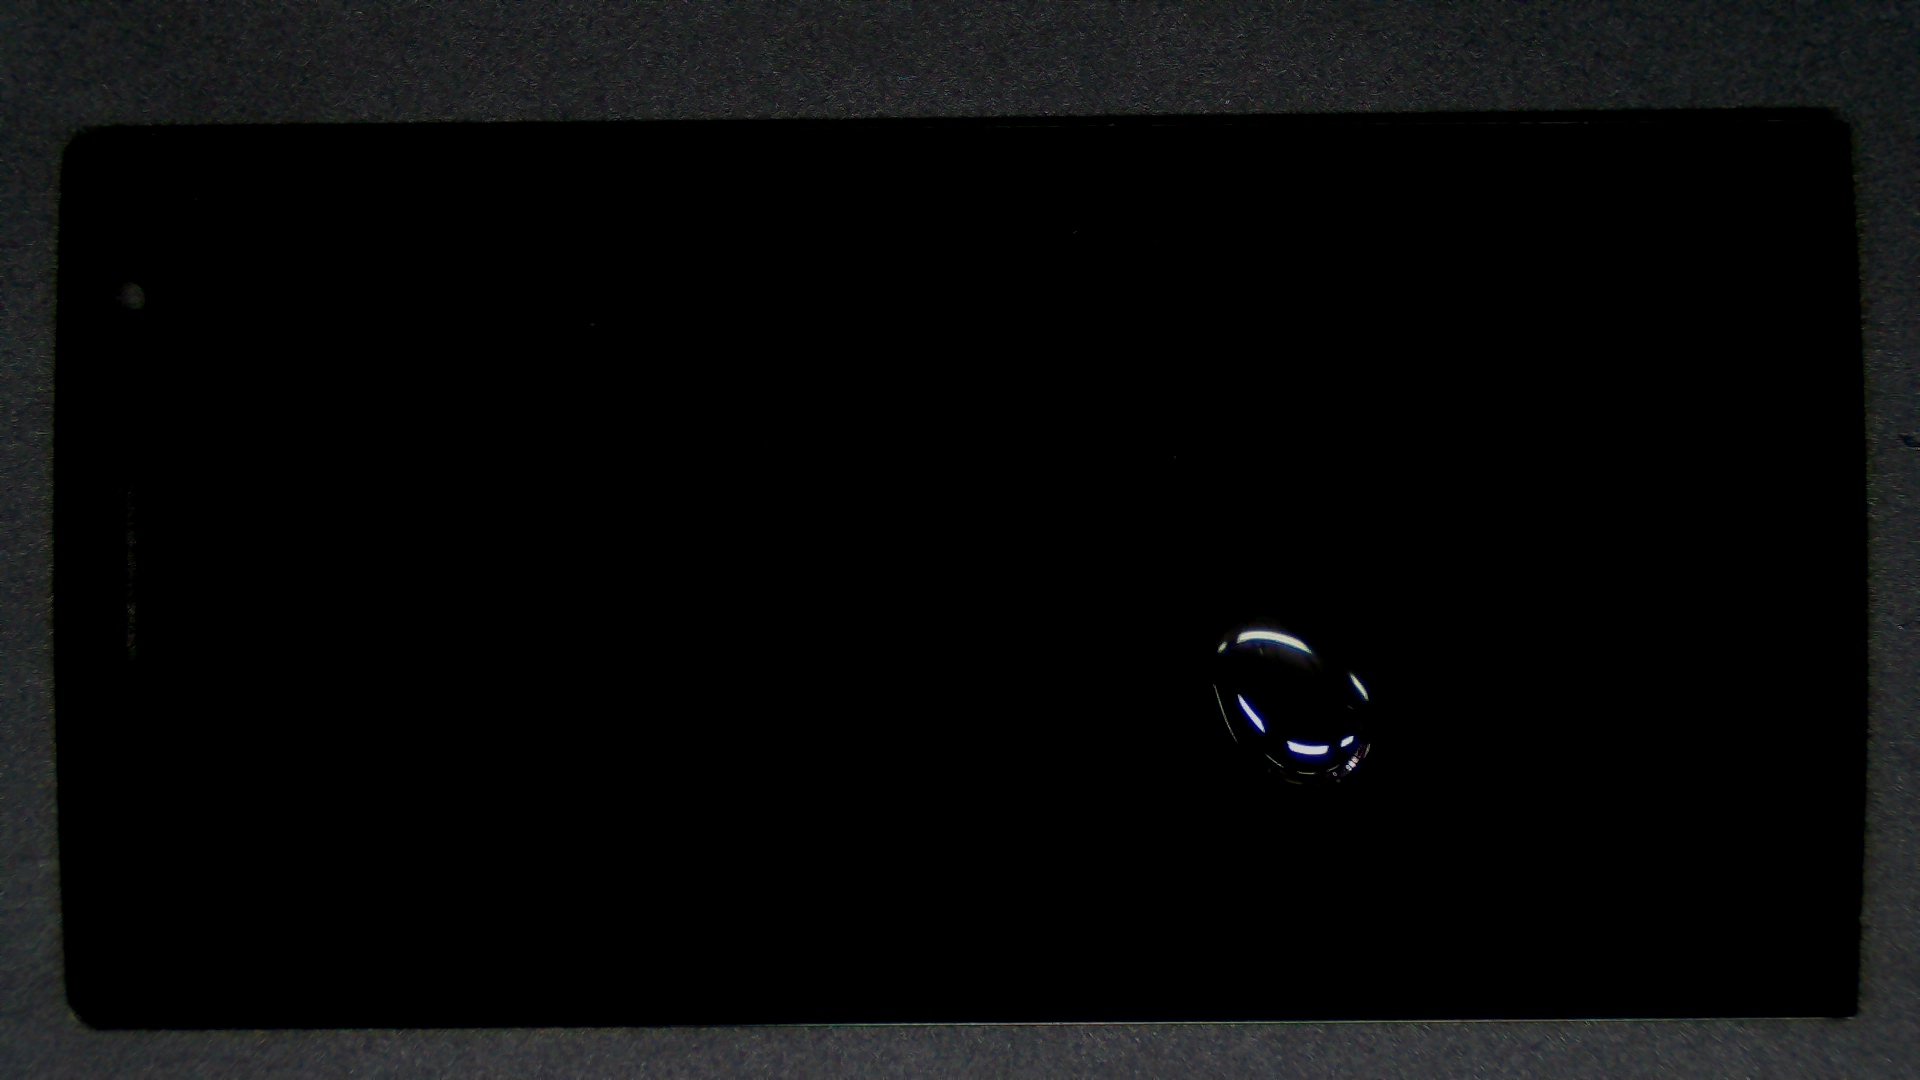oil: (629, 306, 1887, 922)
